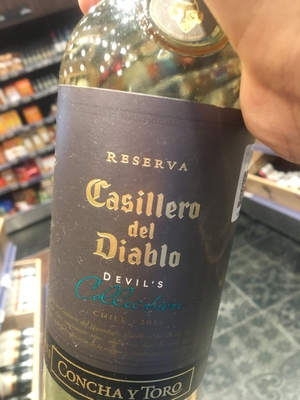casillero del diablo devils collection verde: (33, 11, 266, 400)
